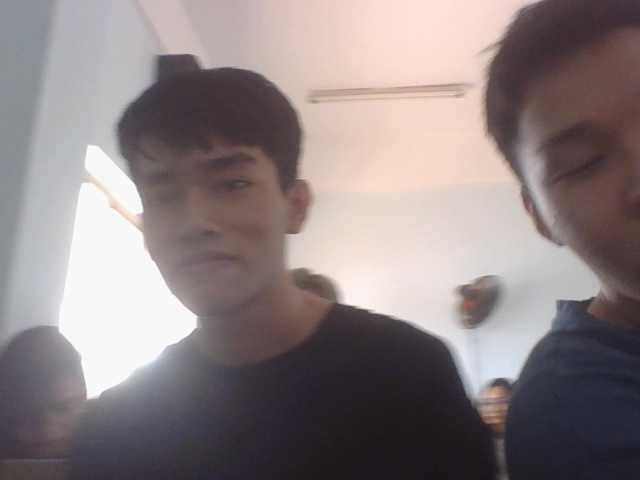real: (120, 47, 314, 322)
